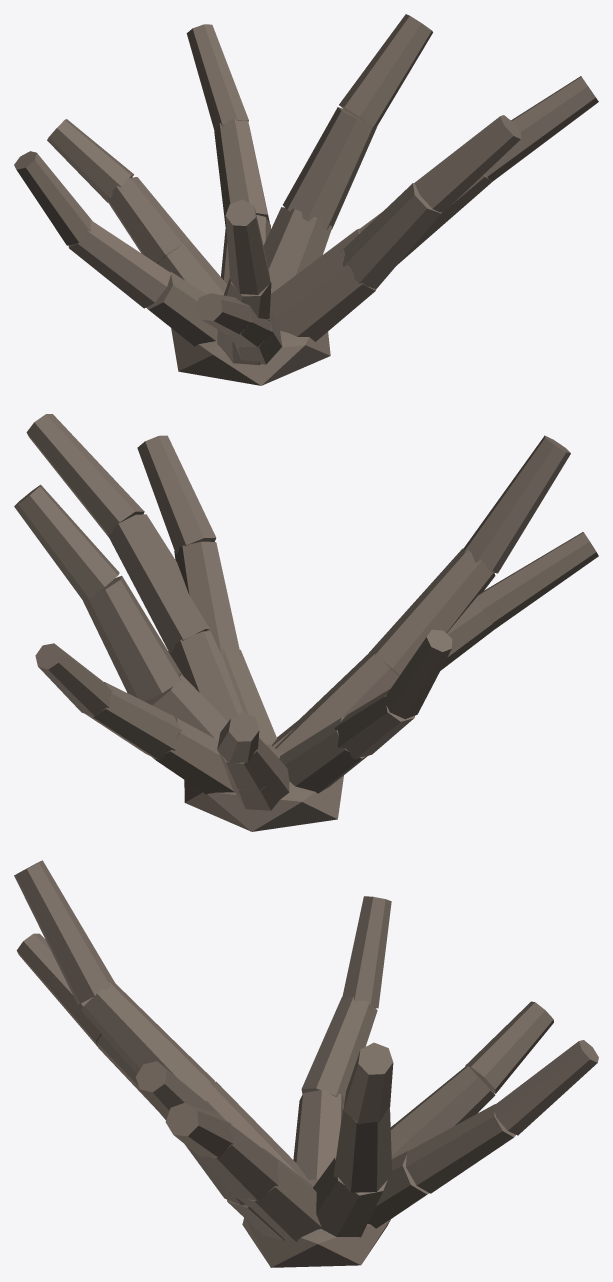
The model's file is root_mass_b.glb.
3 views of the same model, one above another, from view 1: azimuth 30°, elevation 25°; view 2: azimuth 150°, elevation 25°; view 3: azimuth 270°, elevation 25° (orthographic). The views are drawn at different scales.
Parts seen in each view (by area): view 1: bark; view 2: bark; view 3: bark.
Boxes of the visible parts, box(x1,y1,x2,y2) form: bark: box(14, 14, 598, 385); bark: box(14, 414, 598, 831); bark: box(14, 860, 598, 1267).
Bounding box in the file's own units: 4.94 × 2.73 × 4.78.
